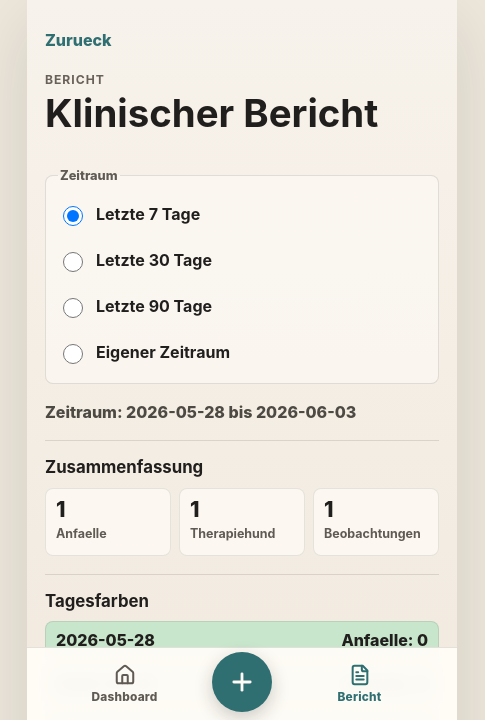
Test: ReportsScreen › supports a custom date range
The width and height of the screenshot is (485, 720).
Click the radio button labelled "Eigener Zeitraum".
click(73, 354)  # box 63,344 -> 83,364
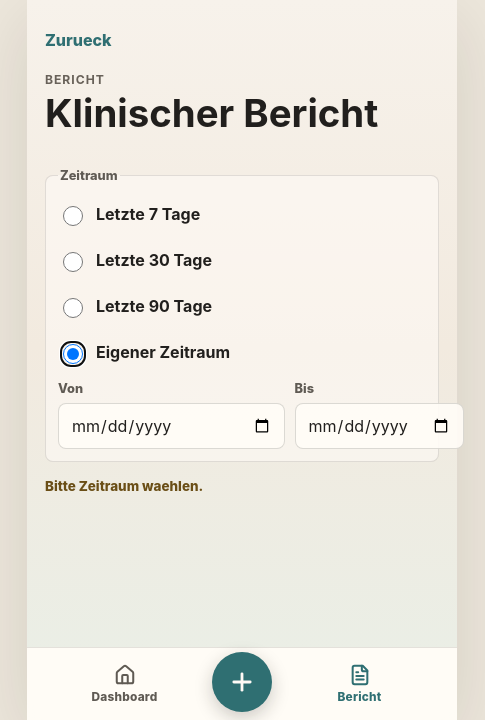
Type "2026-06-01" into the date field labelled "Von".
click(171, 426); type("2026-06-01")  # box 58,403 -> 285,449
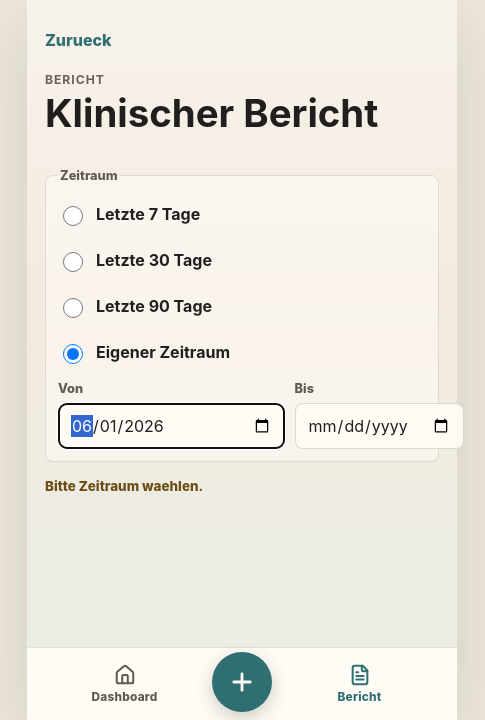
Type "2026-06-02" into the date field labelled "Bis".
click(379, 426); type("2026-06-02")  # box 295,403 -> 464,449
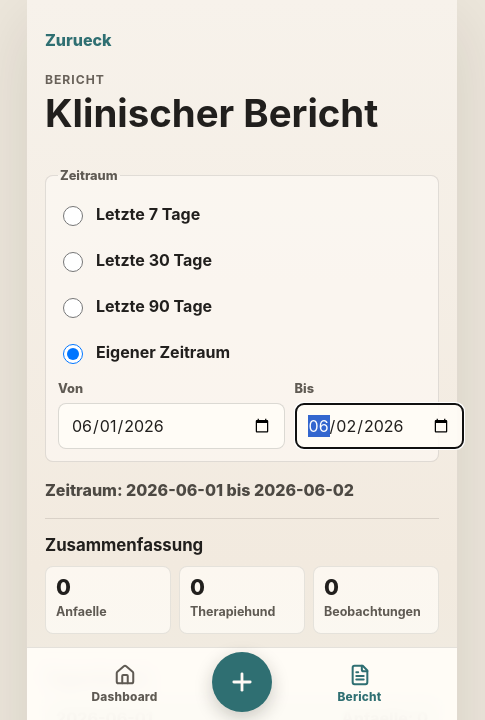
Now the text "Zeitraum: 2026-06-01 bis 2026-06-02" is shown, box 45,480 -> 354,500
